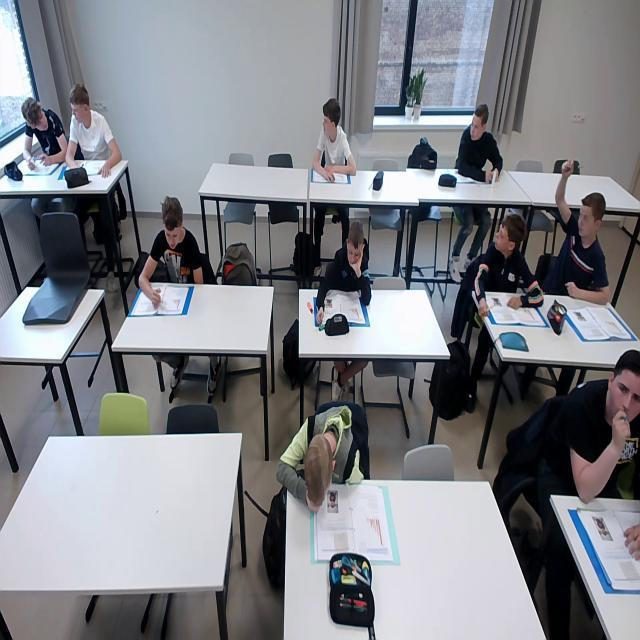Looking away: (494, 212, 523, 256), (22, 98, 49, 132), (70, 86, 91, 125), (321, 99, 342, 137), (470, 103, 489, 143)
Looking forward: (611, 352, 639, 424)
Raising hand: (548, 158, 612, 304)
Reading-writing: (273, 403, 366, 514), (137, 198, 204, 308), (315, 223, 372, 323)
